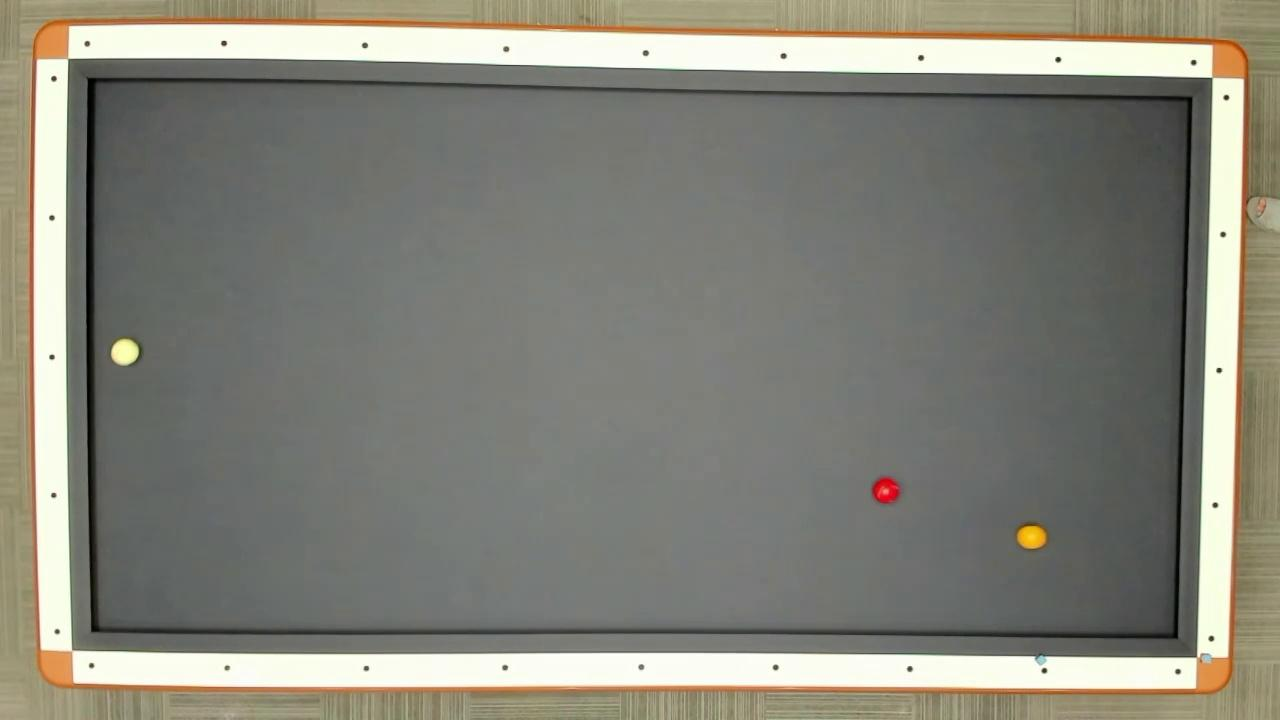Red: (870, 476, 902, 506)
White: (109, 337, 142, 370)
Yellow: (1014, 524, 1048, 552)
